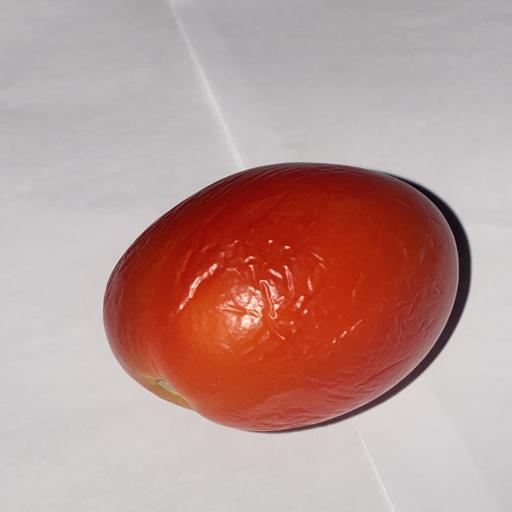spoiled: (104, 163, 458, 431), (284, 246, 291, 249)
